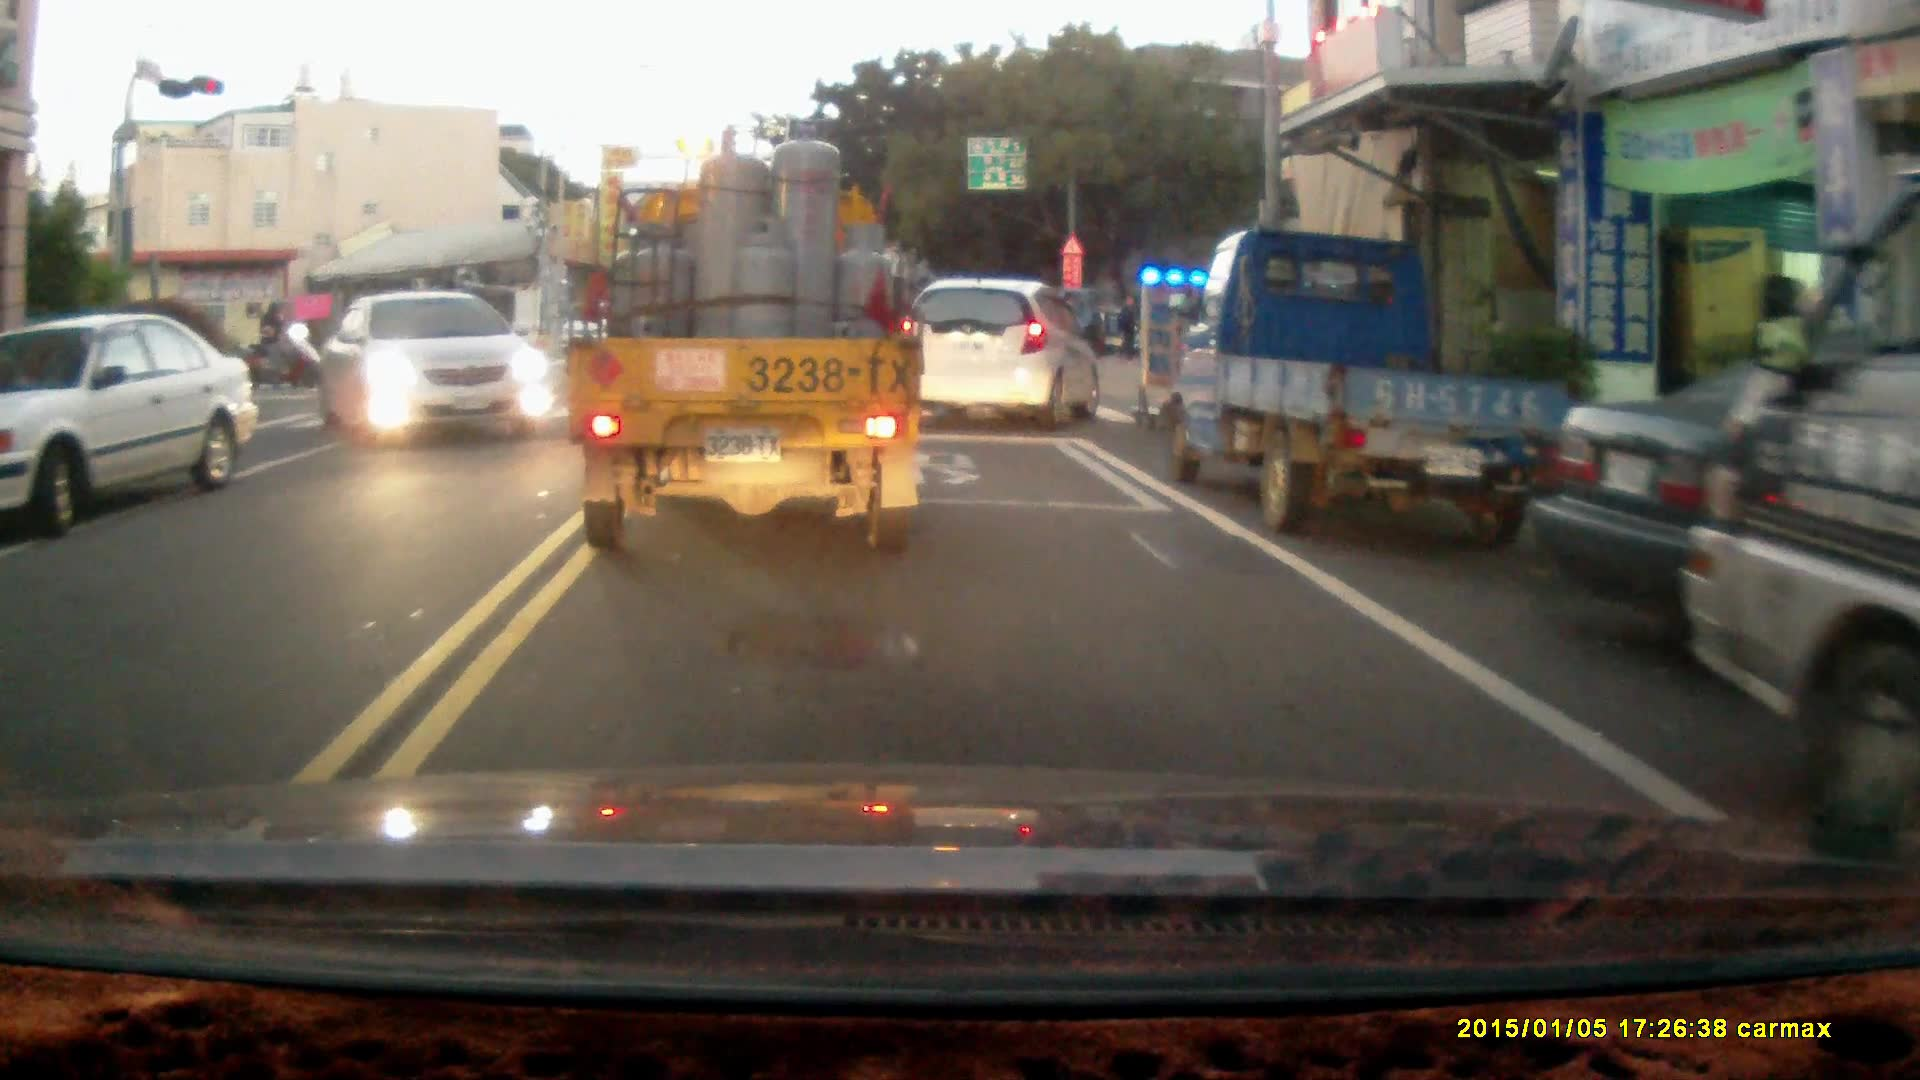rider: (236, 299, 320, 390)
vehicle: (565, 115, 928, 554), (1679, 166, 1920, 809), (1177, 227, 1570, 548), (2, 315, 255, 524), (313, 290, 554, 440), (905, 278, 1112, 427)
